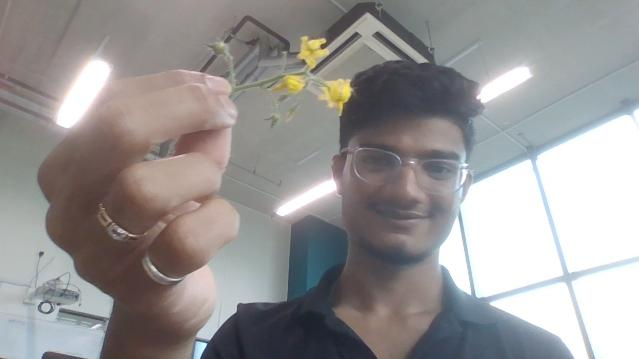Anthesis: (318, 77, 355, 116), (297, 34, 330, 68)
